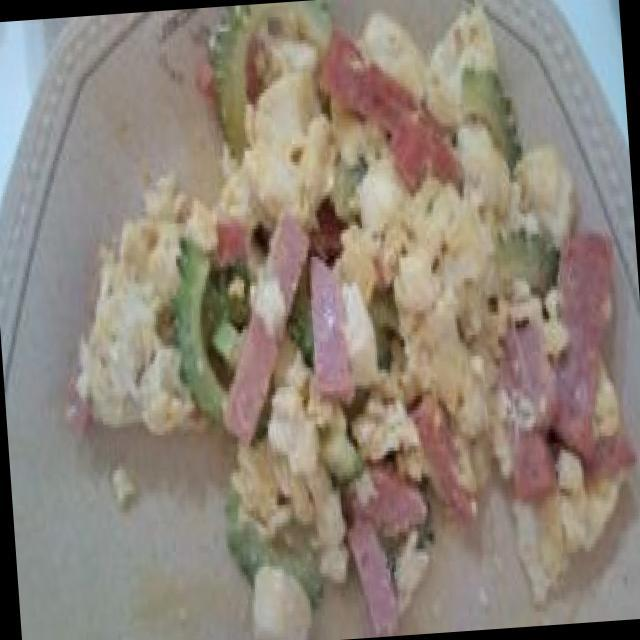Green Salad: (88, 22, 622, 574)
